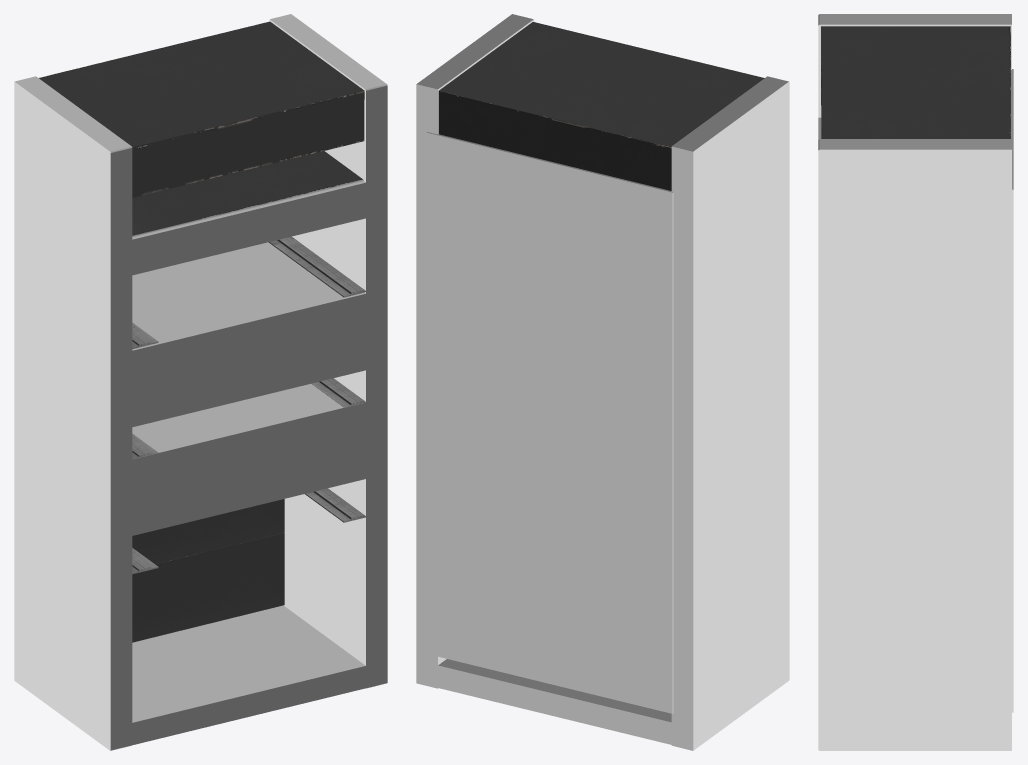
File: SM_Servers_02.fbx
3 renders of one model, left to right at view 1: azimuth 30°, elevation 25°; view 2: azimuth 150°, elevation 25°; view 3: azimuth 270°, elevation 25°, orthographic.
Visible parts, largest first — view 1: SM_Servers_02_ConvexHulls, SM_Servers_02_LOD0; view 2: SM_Servers_02_ConvexHulls, SM_Servers_02_LOD0; view 3: SM_Servers_02_ConvexHulls, SM_Servers_02_LOD0.
Part boxes in pixels (x1,y1,x2,y2): SM_Servers_02_ConvexHulls: (14,14,387,750); SM_Servers_02_LOD0: (39,21,365,642); SM_Servers_02_ConvexHulls: (416,14,789,750); SM_Servers_02_LOD0: (438,22,764,190); SM_Servers_02_ConvexHulls: (818,14,1013,750); SM_Servers_02_LOD0: (821,26,1010,138).
Bounding box in the file's own units: 111 × 67.35 × 229.
